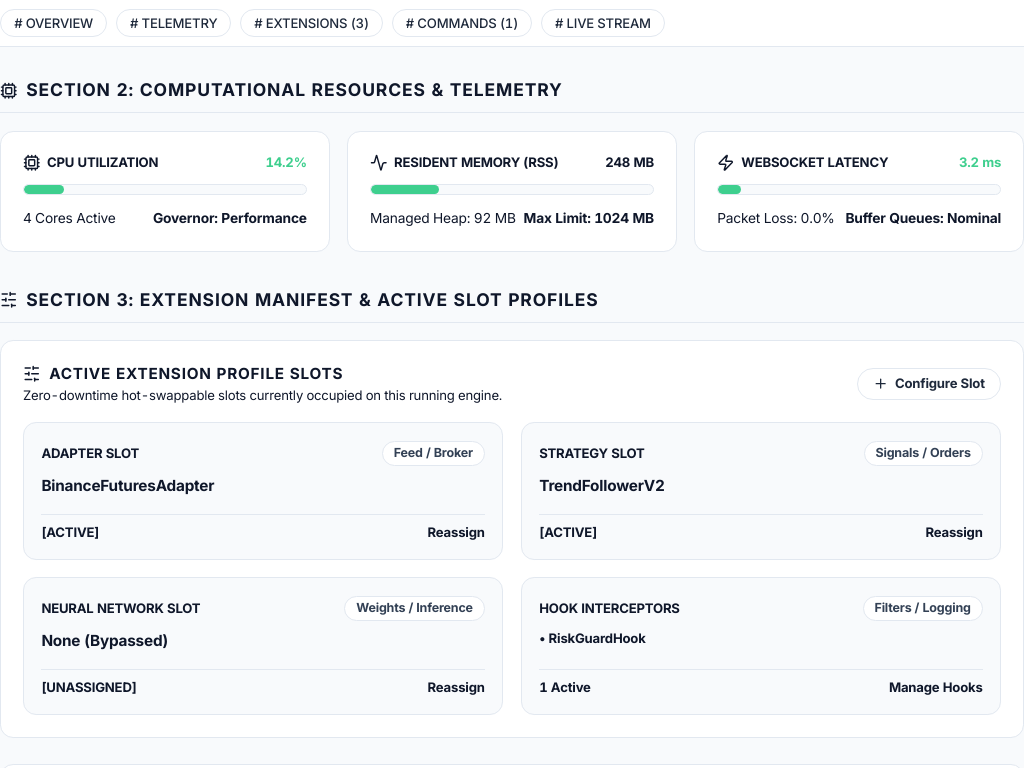
Scenario: InstanceDetailContent Component › opens slot configuration modal and allows slot assignment
(page scrolled)
Click the button "Configure Slot": (929, 384) [857,368,1001,400]
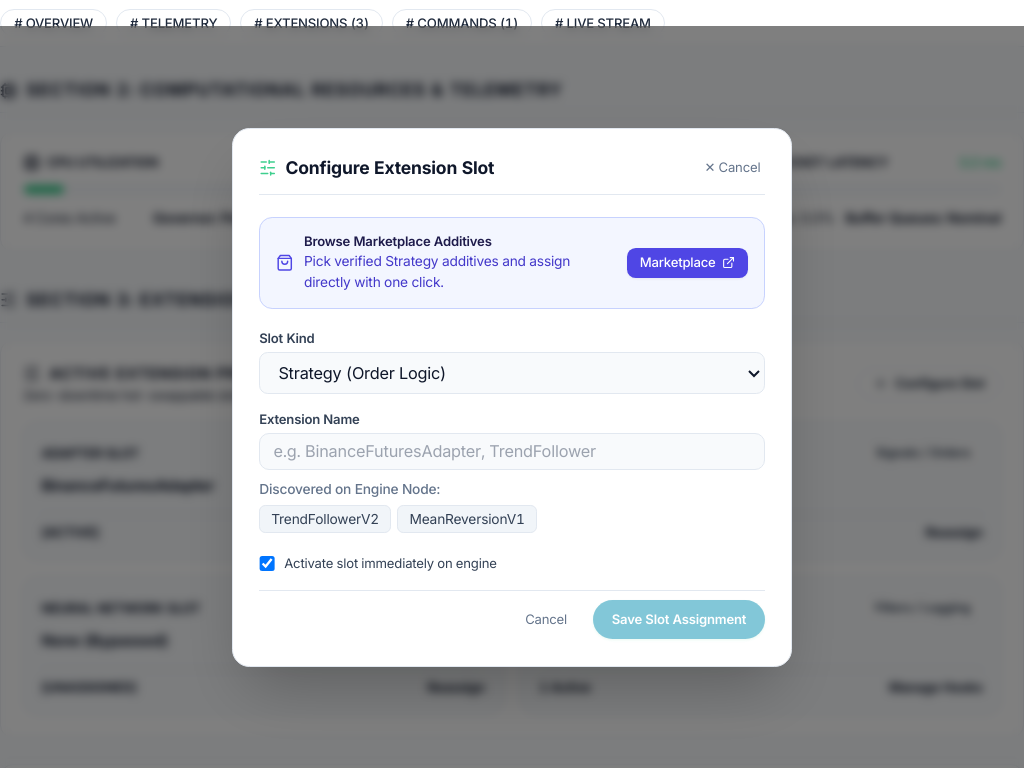
Result: the text "Configure Extension Slot" is shown at [286,155,494,181]
Click the button "✕ Cancel": (732, 168) [700,155,765,181]
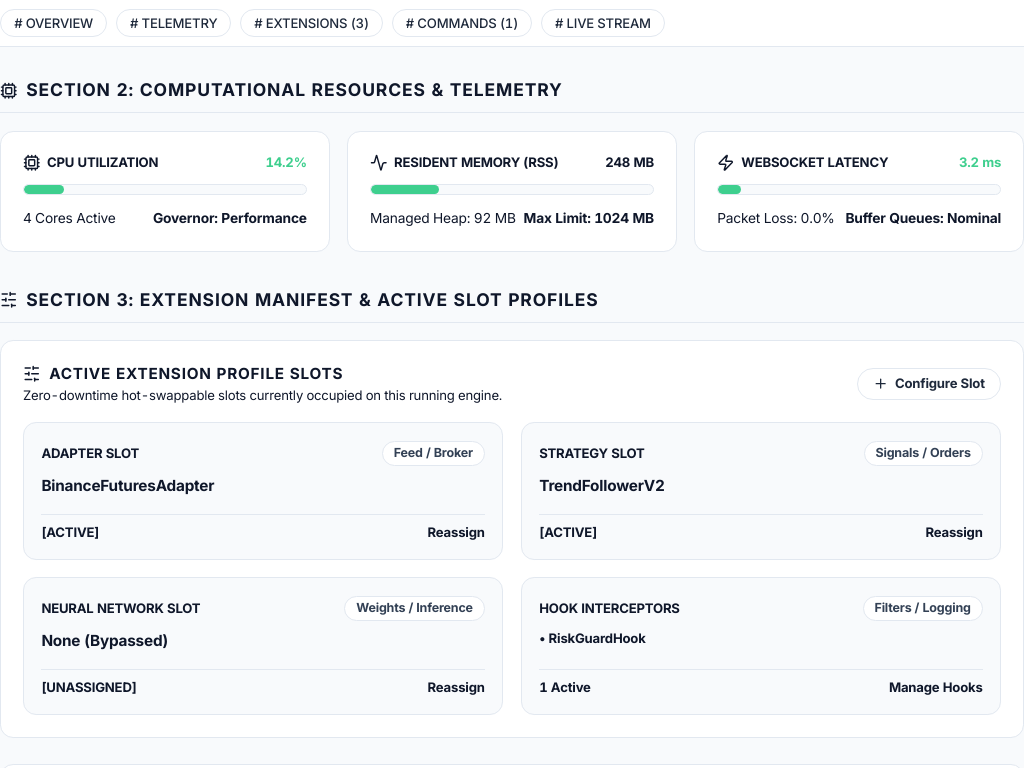
Result: the text "Configure Extension Slot" is gone
